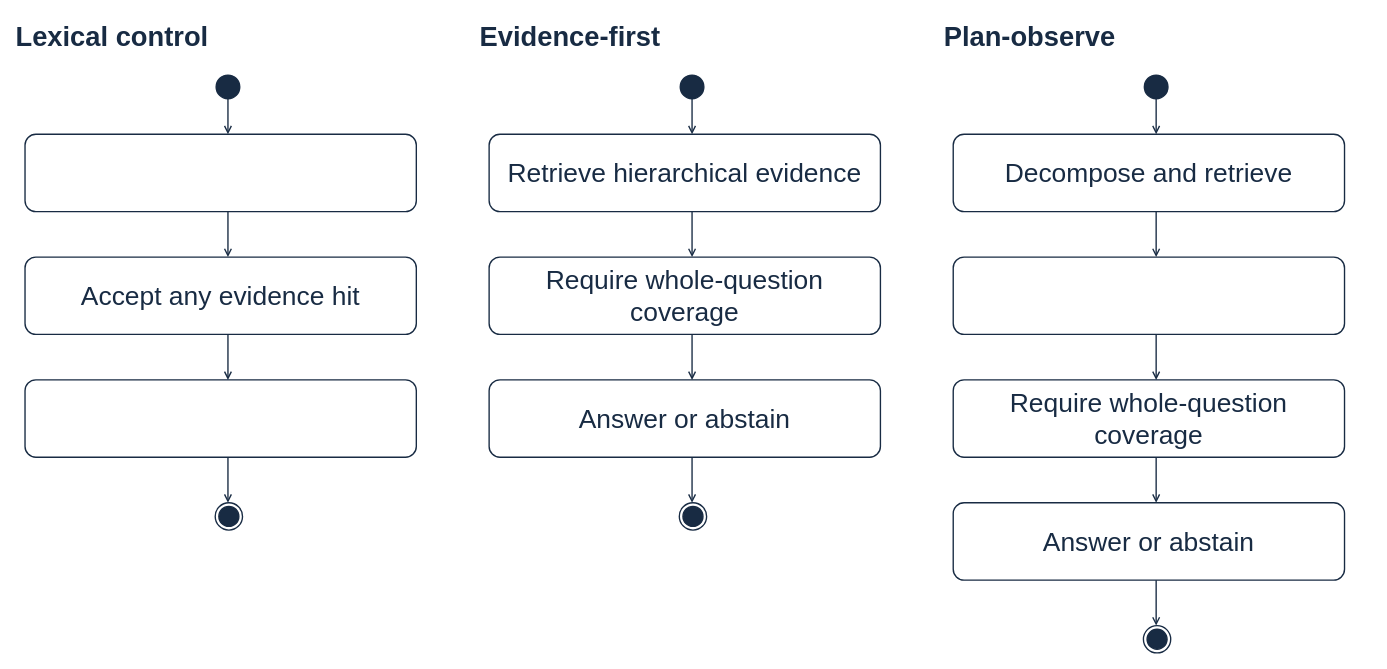
Some shapes in this 1387 by 669 pixel diagram are drawn without their labels. The centre of each missing label's shape, as x and y in pixels:
"Combine retrieval observations" goes at point 1148,295.
"Extract a source response" goes at point 220,418.
"Retrieve lexical matches" goes at point 220,172.
